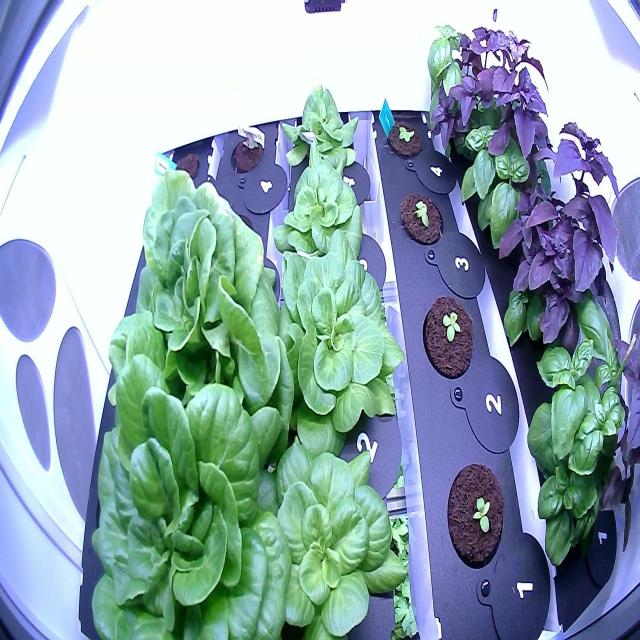Ready: (94, 160, 293, 468), (82, 353, 295, 640)
pod: (166, 143, 202, 190)
young: (259, 220, 404, 461), (255, 432, 410, 639), (270, 161, 369, 274), (278, 77, 364, 178), (443, 453, 508, 577), (419, 283, 478, 387), (395, 187, 451, 252), (381, 105, 432, 163), (227, 124, 269, 181)
